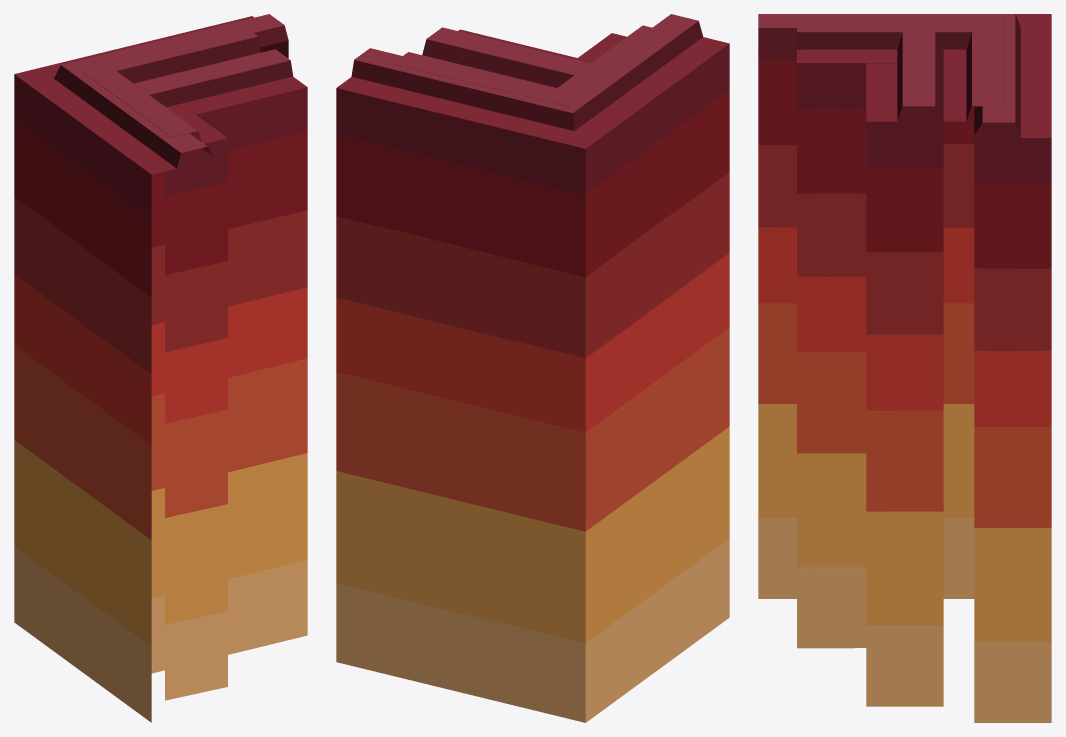
The model's file is borders_MESH.fbx.
The picture shows the model from 3 angles, left to right: view 1: azimuth 30°, elevation 25°; view 2: azimuth 150°, elevation 25°; view 3: azimuth 270°, elevation 25°; orthographic projection. The views are drawn at different scales.
Visible parts, largest first — view 1: outerEdgeEnd_MESH, edgeEnd_MESH, innerCornerEnd_MESH, outerEdge_MESH; view 2: outerEdge_MESH, outerEdgeEnd_MESH, innerCornerEnd_MESH, edgeEnd_MESH; view 3: edgeEnd_MESH, outerEdgeEnd_MESH, outerEdge_MESH, innerCorner_MESH, innerCornerEnd_MESH.
Part boxes in pixels (x1=…): outerEdgeEnd_MESH: x1=14, y1=16, x2=288, y2=722; edgeEnd_MESH: x1=101, y1=49, x2=307, y2=673; innerCornerEnd_MESH: x1=75, y1=25, x2=260, y2=700; outerEdge_MESH: x1=14, y1=14, x2=288, y2=662; outerEdge_MESH: x1=336, y1=14, x2=729, y2=722; outerEdgeEnd_MESH: x1=338, y1=38, x2=729, y2=720; innerCornerEnd_MESH: x1=392, y1=25, x2=670, y2=106; edgeEnd_MESH: x1=422, y1=27, x2=624, y2=87; edgeEnd_MESH: x1=866, y1=15, x2=943, y2=706; outerEdgeEnd_MESH: x1=974, y1=18, x2=1051, y2=722; outerEdge_MESH: x1=758, y1=14, x2=1051, y2=598; innerCorner_MESH: x1=797, y1=63, x2=998, y2=647; innerCornerEnd_MESH: x1=797, y1=18, x2=1004, y2=648.
Bounding box in the file's own units: 1.36 × 3.07 × 1.36.
